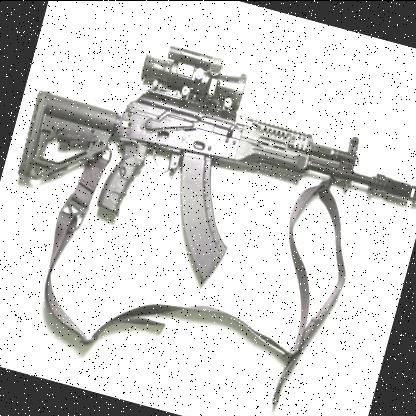rifle: (0, 0, 416, 323)
